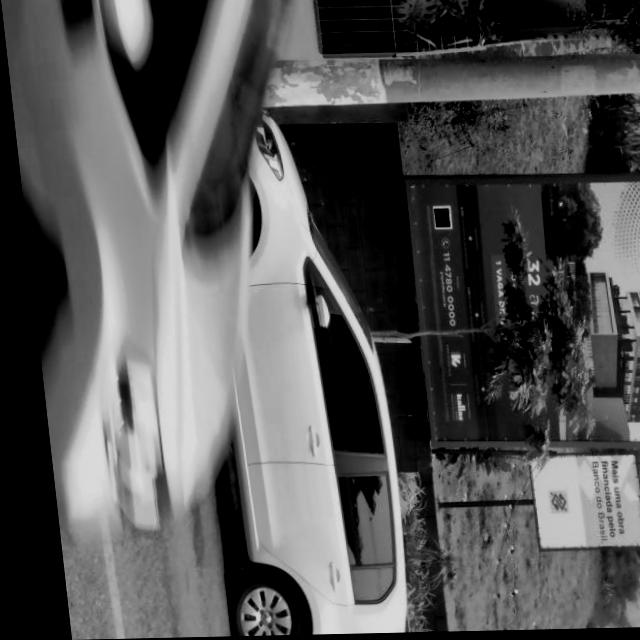qr_code: (428, 211, 444, 229)
